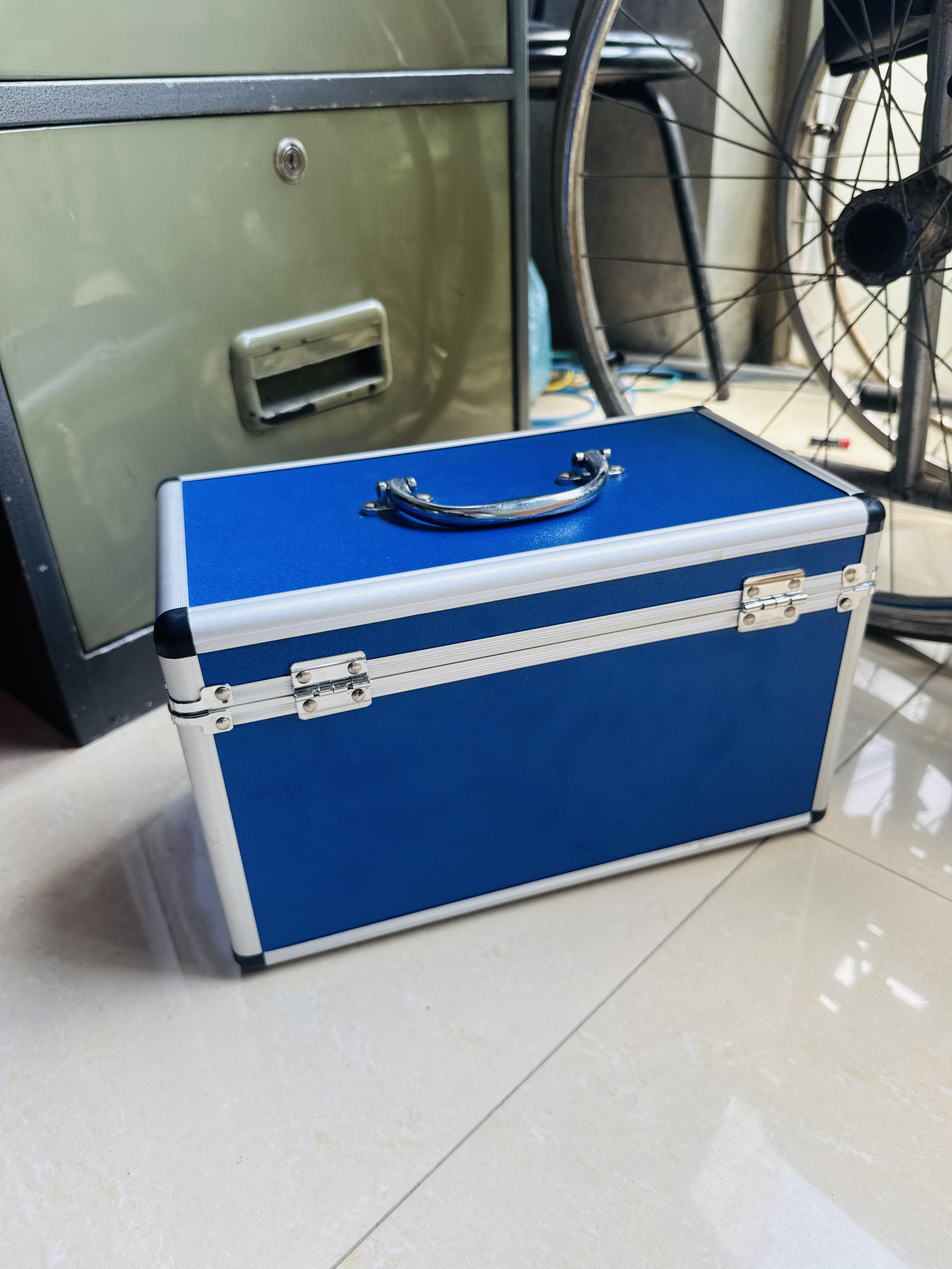FirstAidBox: (113, 377, 918, 991)
